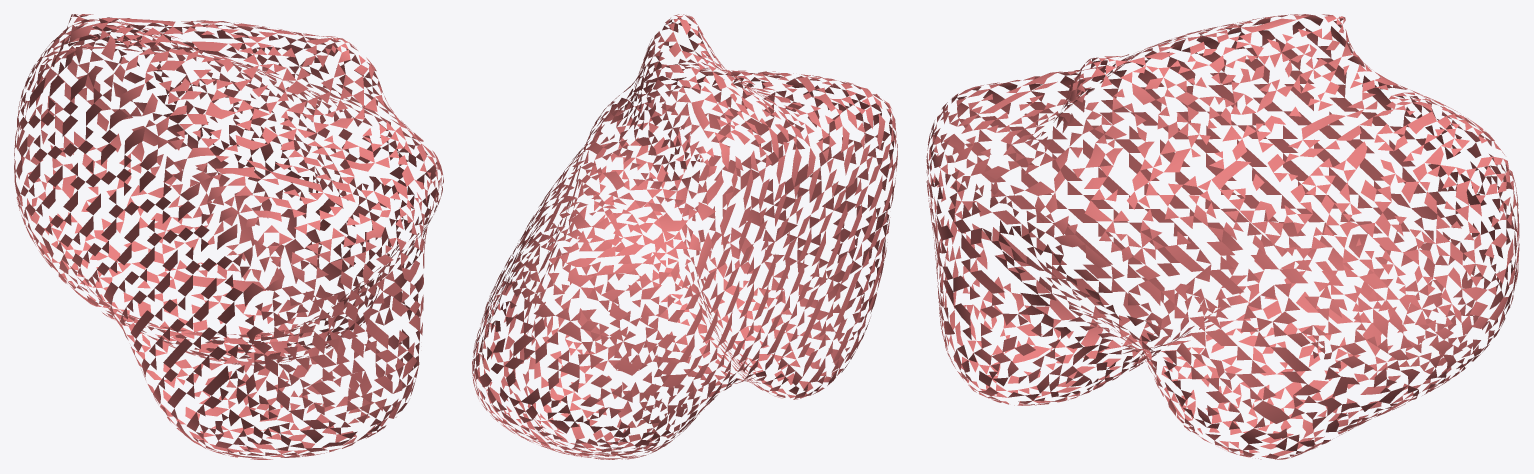
File: morph_000.glb
3 renders of one model, left to right at view 1: azimuth 30°, elevation 25°; view 2: azimuth 150°, elevation 25°; view 3: azimuth 270°, elevation 25°, orthographic. The views are drawn at different scales.
Size of the model in its own units: 14.79 by 20.77 by 28.9.
